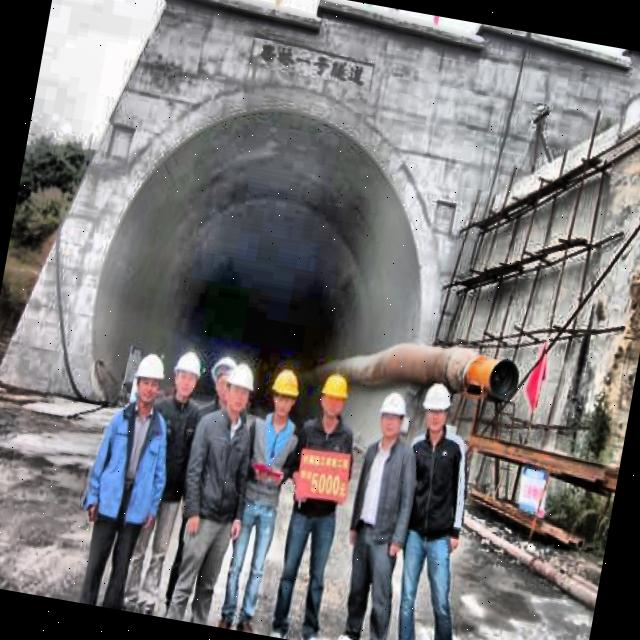helmet: (371, 384, 413, 450), (129, 352, 168, 414), (204, 351, 242, 414), (418, 379, 454, 442), (220, 360, 257, 421), (164, 344, 203, 401), (264, 364, 302, 422), (311, 372, 350, 428)
